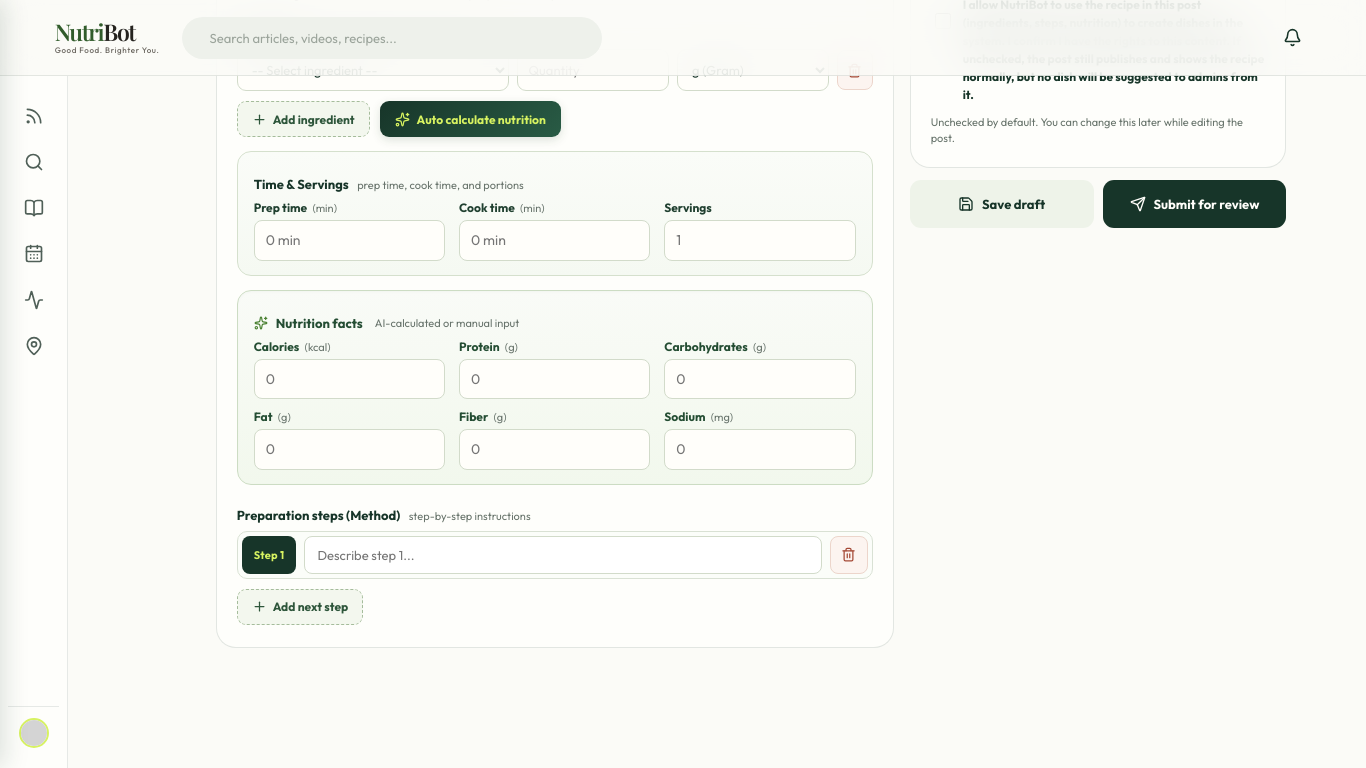
Scenario: CreateBlogPage Recipe Details & Steps UI › automatically adds Step 2 when pressing Enter inside Step 1 input
(page scrolled)
Expected: the text "Step 1" is shown, [242,536,296,574]
Expected: the text "Step 2" is not shown
Type "Sơ chế và rửa sạch nguyên liệu" into the field named "Step 1 description".
click(563, 555); type("Sơ chế và rửa sạch nguyên liệu")  # box [304,536,822,574]
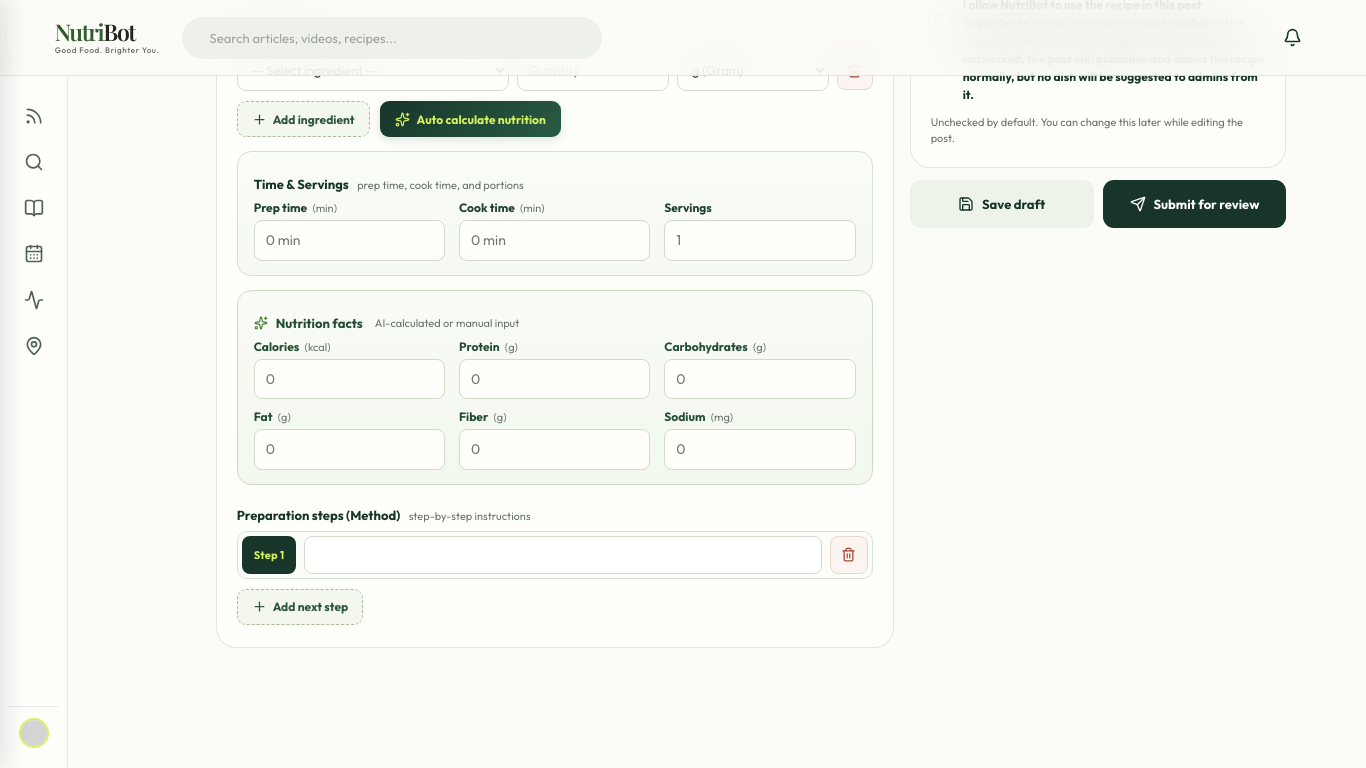
Press Enter inside Step 1 input
Press Enter in the field named "Step 1 description", box [304,536,822,574]
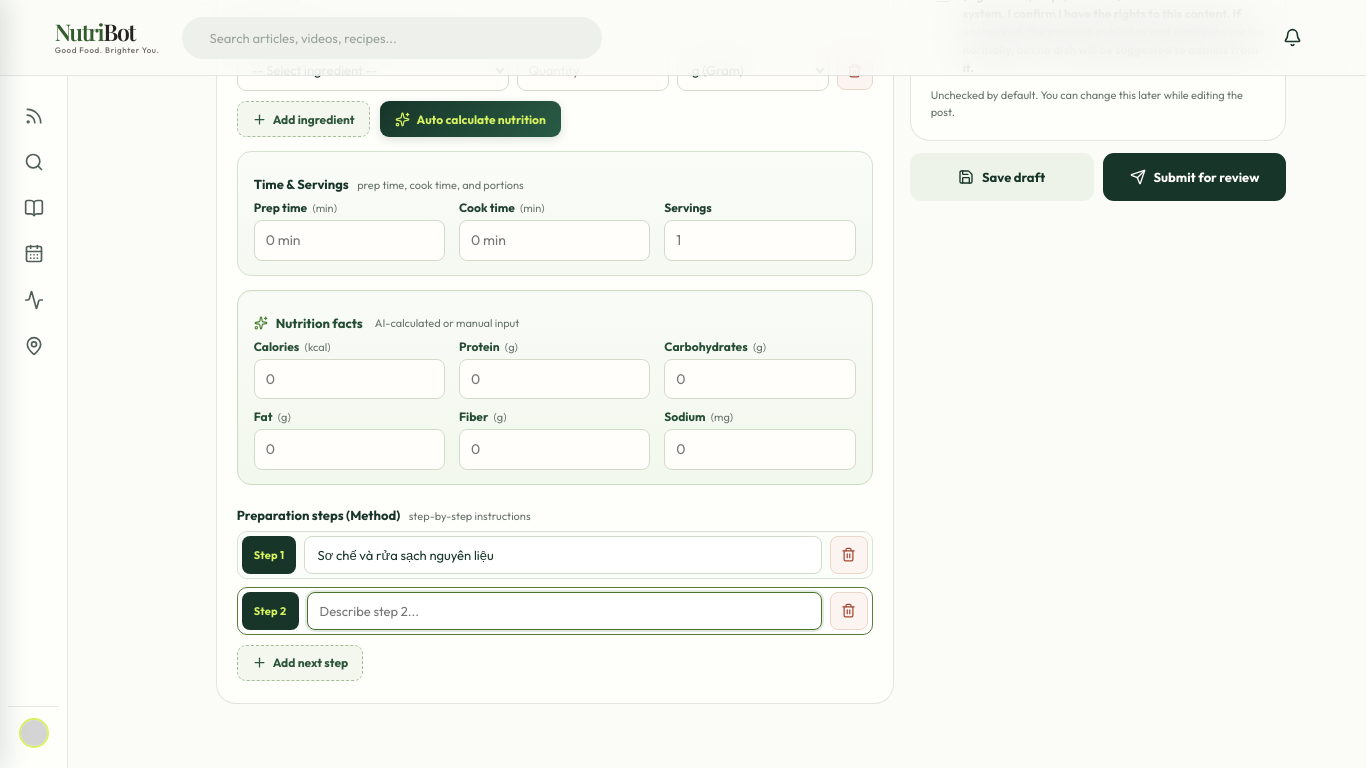
Expected: the text "Step 2" is shown, [242,592,298,630]
Expected: the field named "Step 2 description" is shown, [306,592,822,630]
